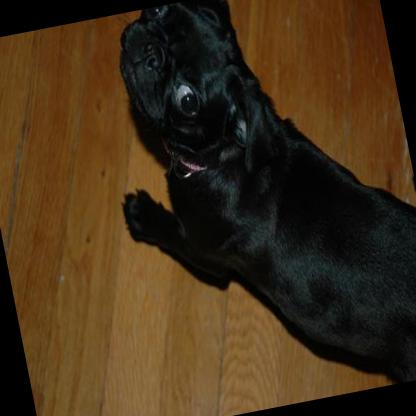pug: (84, 0, 416, 416)
